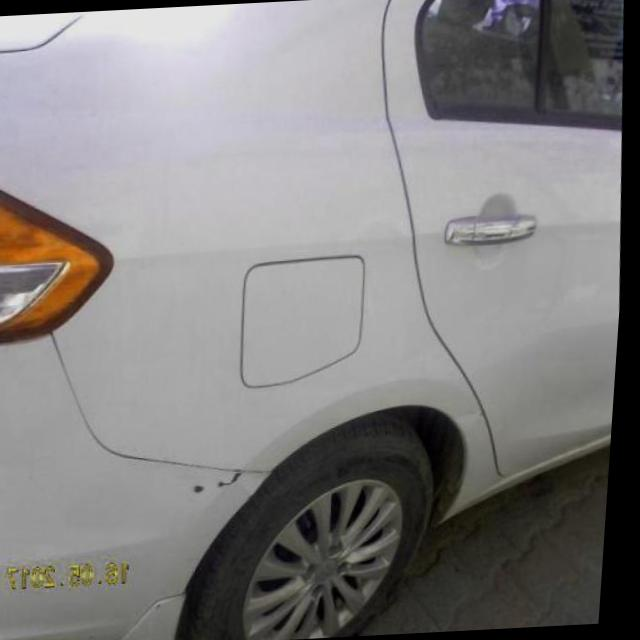Car-Damage: (225, 471, 250, 494), (200, 478, 214, 504)
